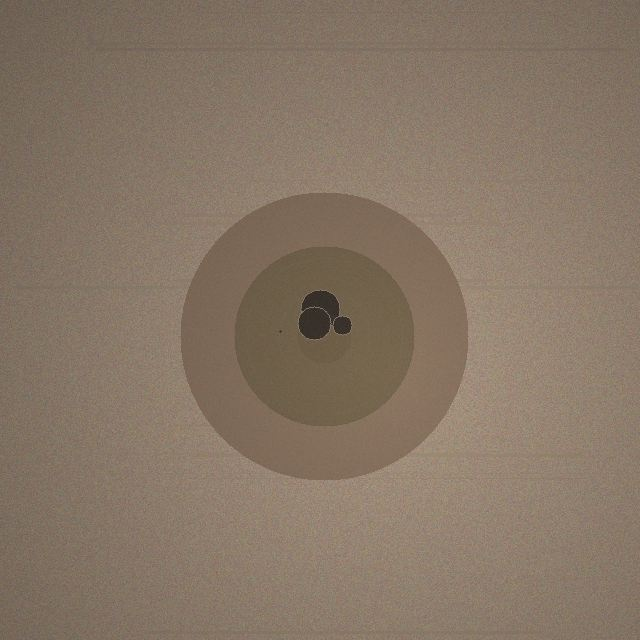shrinkage: (180, 192, 468, 480)
